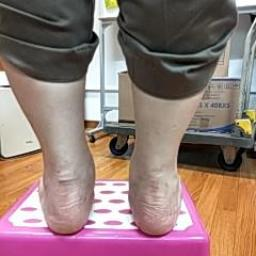Back View -Both Feet-: (24, 120, 198, 242)
